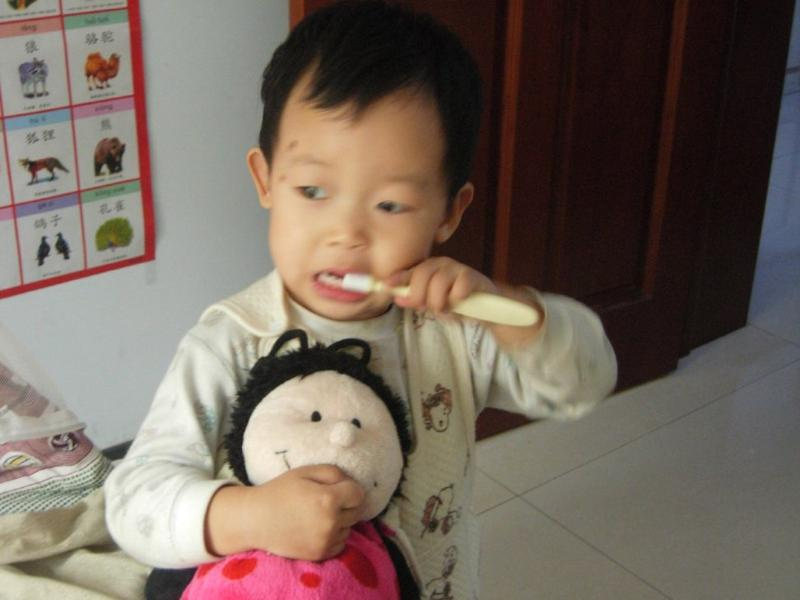person: (106, 2, 615, 600)
